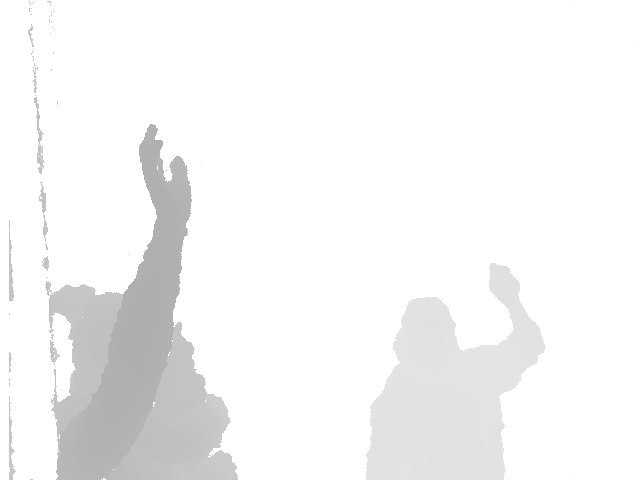hand: (135, 123, 195, 234), (485, 259, 524, 312)
head: (56, 282, 206, 411), (394, 298, 460, 368)
person: (42, 121, 238, 480), (359, 258, 549, 478)
